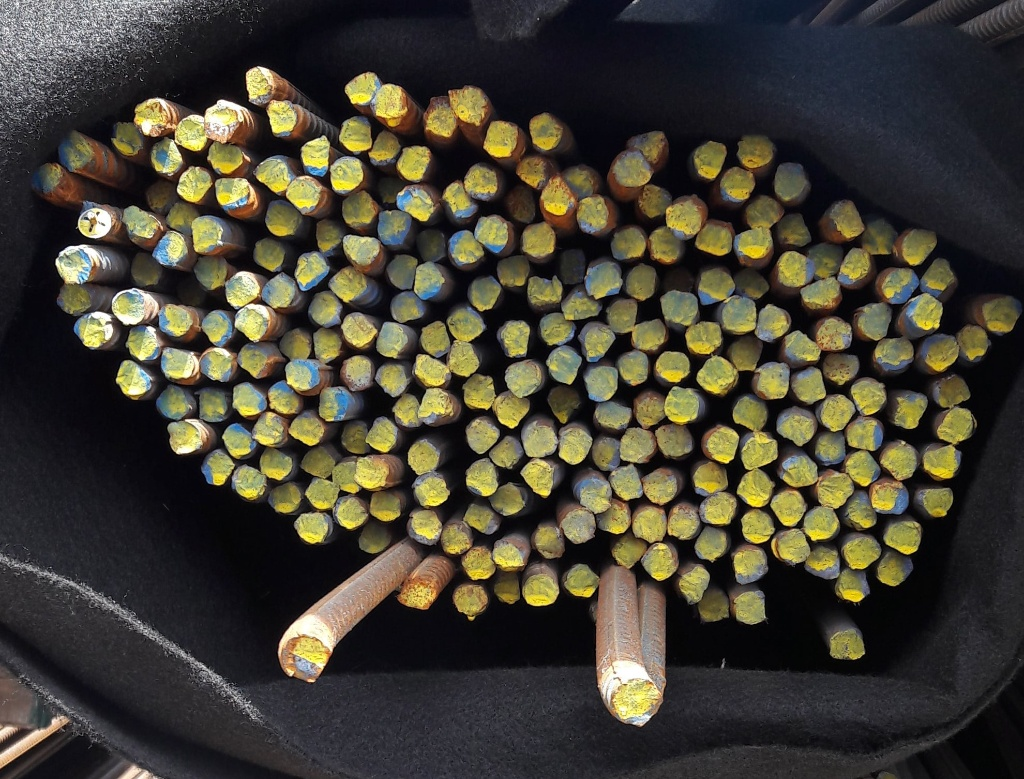dipstick: (609, 677, 661, 727), (279, 636, 329, 684), (418, 389, 461, 427), (777, 407, 817, 446), (937, 407, 978, 445), (59, 129, 96, 171), (206, 100, 242, 143), (817, 394, 856, 433), (73, 312, 114, 349), (579, 322, 616, 363), (920, 258, 957, 298), (921, 334, 959, 372), (736, 469, 773, 508), (892, 392, 929, 431), (982, 296, 1021, 333), (852, 377, 888, 417), (922, 445, 963, 480), (697, 356, 735, 393), (615, 149, 652, 187), (253, 156, 292, 192), (234, 304, 270, 343), (516, 154, 555, 190), (659, 289, 698, 325), (540, 176, 575, 216), (546, 346, 581, 386), (842, 492, 877, 532), (55, 248, 92, 285), (450, 86, 487, 123), (398, 185, 435, 222), (585, 261, 622, 298), (329, 266, 367, 302), (505, 360, 541, 398), (642, 467, 678, 505), (882, 441, 917, 480), (830, 199, 864, 239), (287, 177, 323, 214), (877, 550, 914, 586), (863, 219, 899, 256), (882, 268, 919, 304), (699, 268, 735, 305), (265, 199, 300, 237), (871, 482, 910, 516), (802, 277, 842, 310), (778, 456, 818, 489), (372, 84, 408, 120), (443, 181, 478, 218), (474, 216, 509, 253), (620, 428, 657, 463), (771, 490, 806, 527), (664, 386, 699, 423), (295, 252, 329, 290), (447, 308, 485, 342), (547, 386, 581, 424), (642, 543, 676, 581), (792, 367, 826, 405), (694, 140, 726, 180), (426, 96, 457, 137), (154, 231, 189, 267), (115, 360, 150, 396), (125, 325, 160, 361), (160, 346, 196, 381), (222, 423, 257, 459), (225, 271, 260, 307), (260, 273, 295, 309), (564, 564, 600, 599), (733, 549, 768, 585), (778, 251, 814, 286), (808, 243, 844, 278), (135, 100, 169, 137), (78, 202, 115, 236), (413, 472, 450, 506), (656, 424, 693, 458), (902, 228, 936, 265), (722, 296, 756, 333), (857, 303, 891, 340), (202, 310, 235, 348), (329, 156, 362, 194), (465, 458, 498, 496), (884, 521, 922, 554), (627, 130, 665, 163), (746, 196, 784, 229), (847, 418, 885, 451), (577, 197, 609, 236), (677, 566, 709, 605), (178, 167, 213, 202), (232, 465, 267, 500), (483, 122, 518, 157), (495, 392, 530, 427), (732, 396, 767, 431), (907, 295, 942, 330), (155, 385, 189, 421), (200, 450, 234, 486), (491, 483, 527, 517), (560, 510, 596, 544), (344, 71, 381, 104), (529, 113, 562, 150), (610, 464, 643, 501), (844, 536, 881, 569), (741, 437, 778, 470), (817, 475, 854, 508), (174, 113, 206, 151), (342, 235, 381, 266), (414, 261, 445, 300), (563, 290, 603, 320), (343, 312, 377, 347), (290, 412, 324, 447), (408, 510, 442, 545), (563, 164, 598, 198), (522, 222, 556, 257), (632, 508, 667, 542), (777, 212, 811, 247), (846, 450, 880, 485), (308, 291, 341, 327), (398, 146, 431, 182), (449, 230, 482, 266), (465, 165, 498, 201), (559, 429, 592, 465), (756, 305, 789, 341), (522, 460, 554, 497), (697, 586, 729, 623), (737, 135, 774, 167), (774, 163, 806, 200), (686, 322, 723, 354), (634, 390, 665, 428), (695, 224, 733, 255), (875, 338, 913, 369), (734, 229, 773, 259), (233, 382, 267, 416), (612, 536, 646, 570), (804, 506, 838, 540), (123, 205, 158, 238), (112, 290, 145, 325), (158, 304, 193, 337), (466, 419, 499, 454), (540, 312, 575, 345), (597, 500, 630, 535), (694, 463, 729, 496), (741, 509, 774, 544), (585, 366, 618, 401), (720, 168, 755, 201), (936, 374, 971, 407), (192, 218, 224, 254), (342, 356, 374, 392), (469, 276, 501, 312), (414, 354, 450, 386), (580, 478, 612, 514), (152, 138, 183, 175), (215, 178, 252, 209), (399, 580, 436, 611), (523, 576, 560, 607), (758, 362, 789, 399), (732, 334, 763, 371), (626, 263, 656, 301), (246, 67, 275, 106), (167, 421, 201, 454), (253, 413, 286, 447), (200, 350, 233, 384), (343, 192, 377, 225), (336, 496, 369, 530), (358, 520, 391, 554), (777, 530, 810, 564), (837, 568, 870, 602), (814, 433, 847, 467), (340, 116, 372, 151), (285, 360, 320, 392), (453, 584, 488, 616), (465, 503, 500, 535), (523, 425, 558, 457), (668, 505, 700, 540), (700, 493, 735, 525), (707, 428, 739, 463), (666, 202, 701, 234), (32, 162, 63, 198), (207, 142, 243, 173), (366, 417, 397, 453), (408, 439, 439, 475), (377, 322, 408, 358), (463, 374, 494, 410), (804, 549, 840, 580), (651, 227, 682, 263), (734, 269, 770, 300), (823, 353, 859, 384), (267, 100, 297, 137), (507, 186, 536, 224), (294, 512, 328, 544), (268, 482, 302, 514), (379, 211, 411, 245), (355, 457, 389, 489), (489, 436, 523, 468), (734, 591, 766, 625), (632, 318, 666, 350), (656, 350, 690, 382), (817, 318, 851, 350), (112, 122, 143, 157), (146, 180, 177, 215), (238, 345, 269, 380), (300, 447, 335, 478), (386, 255, 417, 290), (839, 248, 870, 283), (785, 331, 820, 362), (302, 136, 329, 176), (449, 342, 479, 378), (499, 321, 529, 357), (829, 630, 865, 660), (421, 321, 450, 358), (391, 291, 424, 323), (694, 527, 726, 560), (269, 381, 300, 415), (958, 326, 989, 360), (56, 286, 91, 316), (319, 387, 349, 422), (607, 298, 637, 333), (199, 387, 228, 423), (463, 548, 495, 580), (493, 540, 525, 572), (254, 238, 285, 271), (532, 527, 565, 558), (196, 255, 226, 289), (528, 275, 562, 305), (611, 228, 645, 258), (313, 327, 342, 362), (417, 227, 446, 262), (497, 255, 529, 286), (640, 185, 671, 217), (393, 394, 423, 427), (376, 364, 406, 397), (618, 351, 648, 384), (132, 253, 161, 287), (592, 436, 620, 471), (261, 449, 292, 480), (922, 486, 953, 517), (306, 479, 338, 509), (371, 131, 400, 164), (560, 249, 586, 285), (595, 403, 631, 429), (280, 328, 310, 359), (332, 462, 361, 494), (442, 524, 471, 555), (341, 422, 369, 454), (316, 219, 343, 252), (495, 573, 521, 605)
